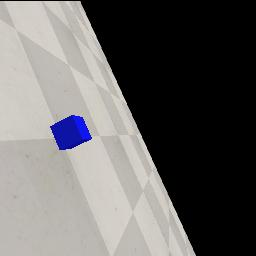box: (50, 115, 92, 150)
